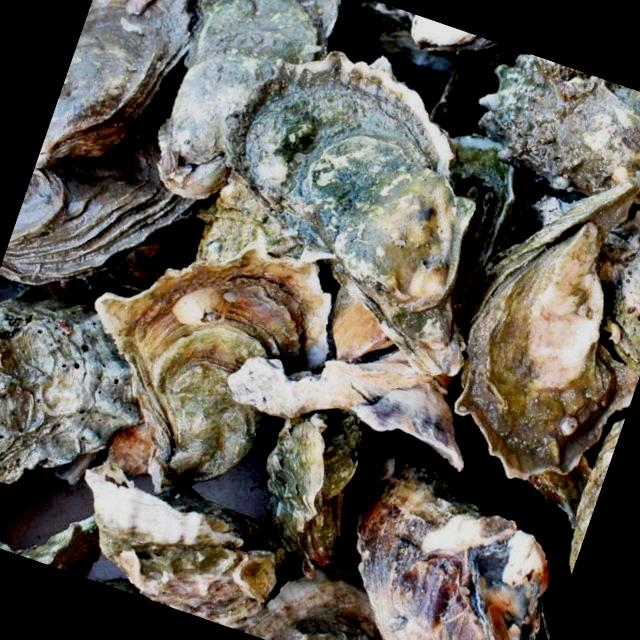Oyster-Closed: (226, 51, 471, 378), (94, 241, 329, 487), (452, 224, 634, 479), (357, 416, 548, 640), (156, 0, 339, 197), (86, 463, 300, 629), (0, 126, 195, 284), (459, 183, 635, 336), (0, 288, 140, 480), (35, 0, 190, 165), (473, 55, 640, 207), (265, 413, 365, 571), (227, 351, 451, 416), (449, 135, 519, 326), (566, 420, 624, 588), (193, 176, 302, 262), (351, 384, 459, 470), (0, 519, 100, 578), (330, 286, 390, 360), (409, 14, 498, 56), (11, 164, 62, 237), (321, 412, 361, 500), (234, 552, 277, 596)
